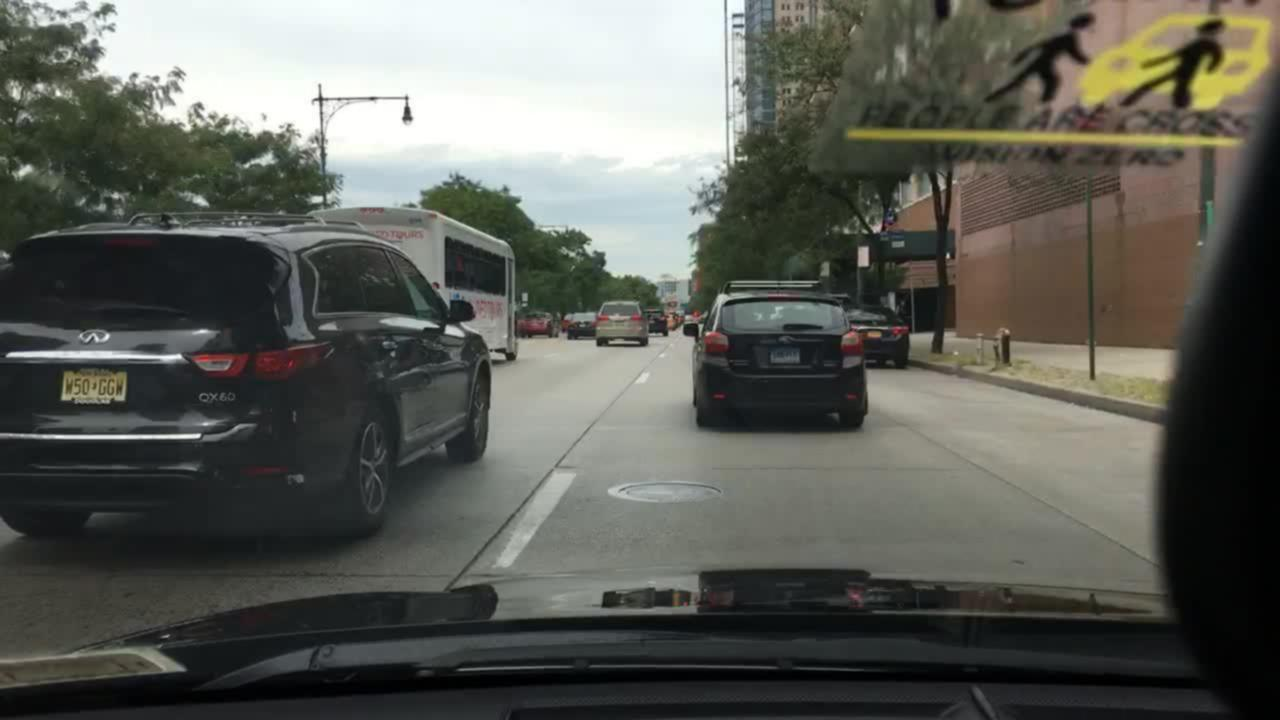Infiniti: (75, 324, 113, 348)
